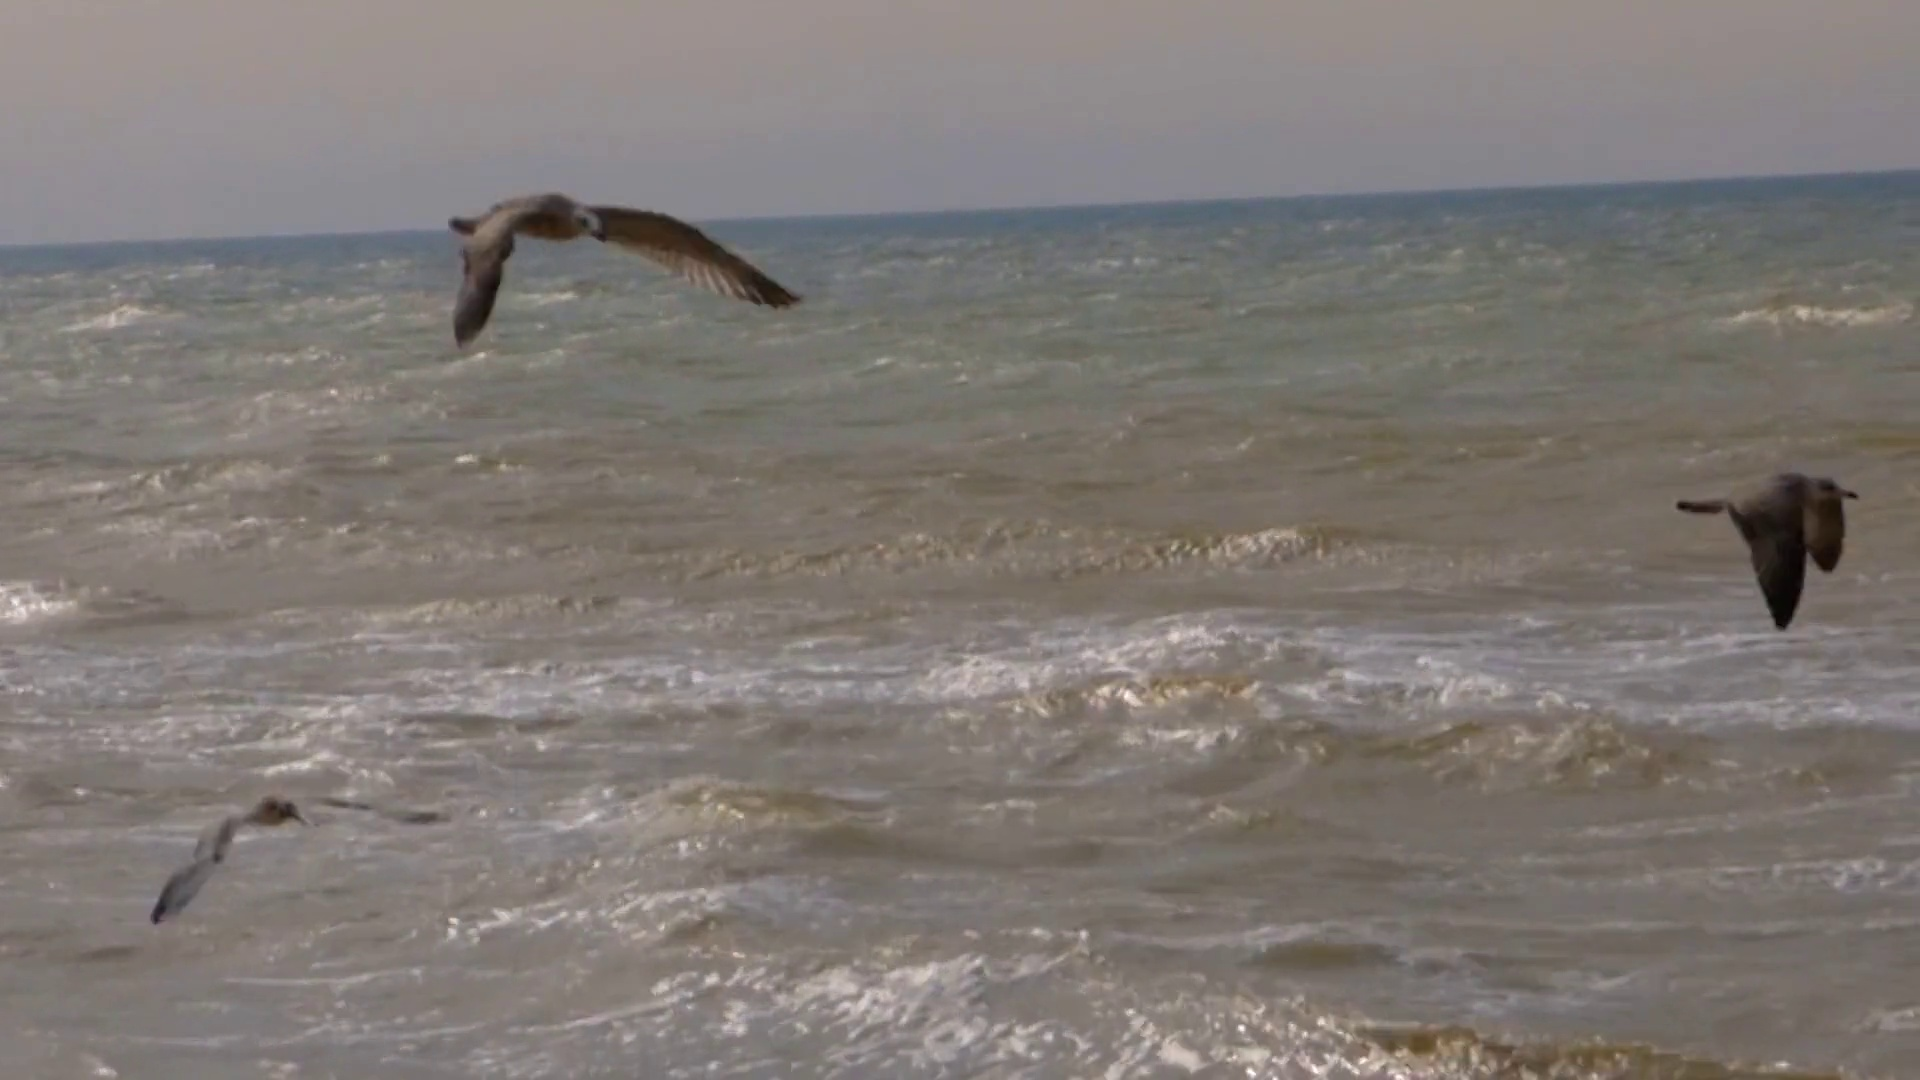bird: (438, 193, 802, 348), (148, 794, 446, 922), (1673, 469, 1859, 633)
